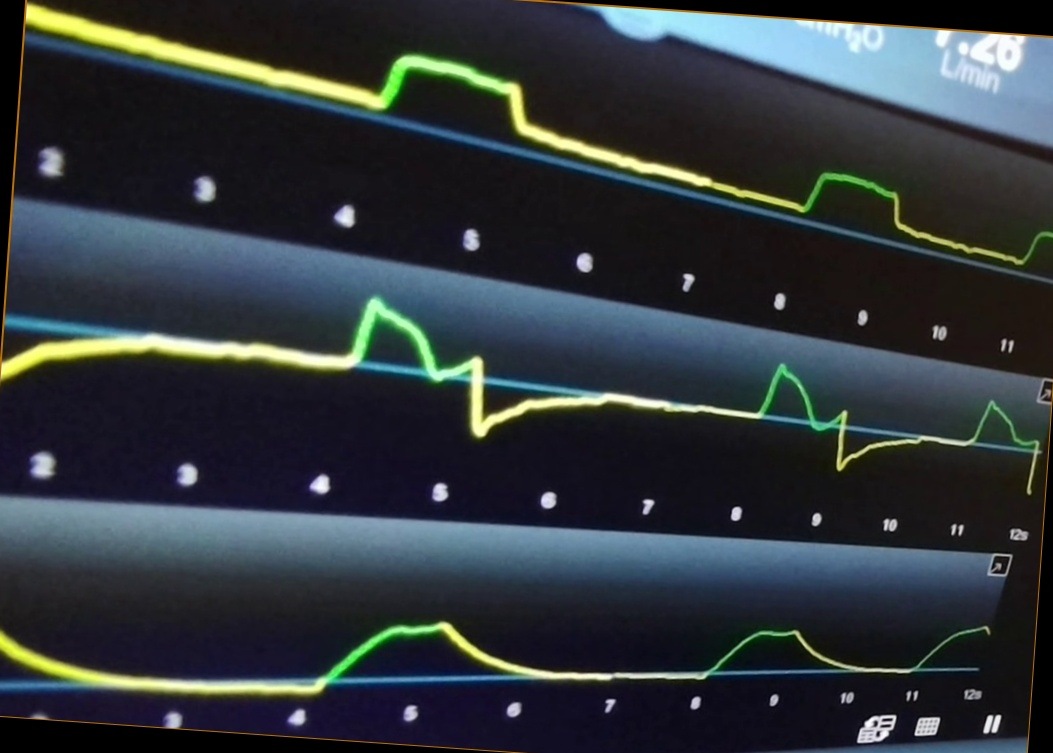Double_Triggering Flow: (7, 294, 1040, 492)
Double_Triggering Volume: (4, 578, 995, 699)
